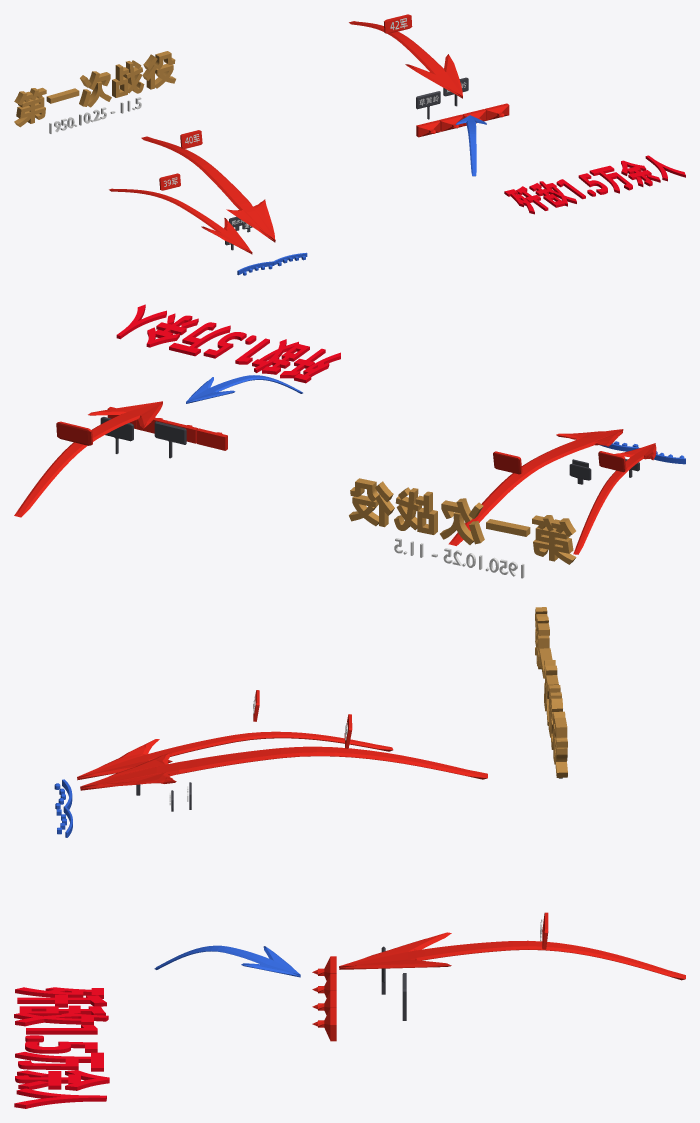
Rendered from 1-animate.glb.
The picture shows the model from 3 angles, top to bottom: view 1: azimuth 30°, elevation 25°; view 2: azimuth 150°, elevation 25°; view 3: azimuth 270°, elevation 25°; orthographic projection. The views are drawn at different scales.
Visible parts, largest first — view 1: 文本.007, 文本.011, 箭头.011, 箭头.003, 箭头.001, 立方体.007, 文本.010, 箭头.004, 立方体.005; view 2: 文本.007, 文本.011, 箭头.003, 箭头.011, 箭头.001, 立方体.007, 文本.010, 箭头.004, 立方体.005, 文本.009, Cube, Cube.001 (+1 smaller); view 3: 文本.011, 箭头.011, 箭头.003, 文本.007, 箭头.001, 箭头.004, 立方体.007.
Boxes of the visible parts, x1,y1,x2,y2 form: 文本.007: (14,51,175,127); 文本.011: (504,155,685,214); 箭头.011: (141,136,275,242); 箭头.003: (349,21,462,98); 箭头.001: (109,188,252,254); 立方体.007: (416,103,509,137); 文本.010: (49,97,141,133); 箭头.004: (456,115,486,176); 立方体.005: (384,14,412,33); 文本.007: (349,478,576,564); 文本.011: (116,304,340,383); 箭头.003: (14,401,162,517); 箭头.011: (448,429,623,545); 箭头.001: (573,443,656,554); 立方体.007: (107,407,227,450); 文本.010: (394,538,524,578); 箭头.004: (186,375,302,403); 立方体.005: (56,421,92,445); 文本.009: (154,421,186,458); Cube: (493,451,522,474); Cube.001: (598,451,626,472); 文本.011: (14,987,109,1108); 箭头.011: (80,746,487,790); 箭头.003: (339,932,685,980); 文本.007: (535,607,567,777); 箭头.001: (77,731,393,780); 箭头.004: (154,945,300,977); 立方体.007: (312,956,336,1041).
Size of what is drawn, in the model's own units: 45.2 by 7.27 by 33.76.
